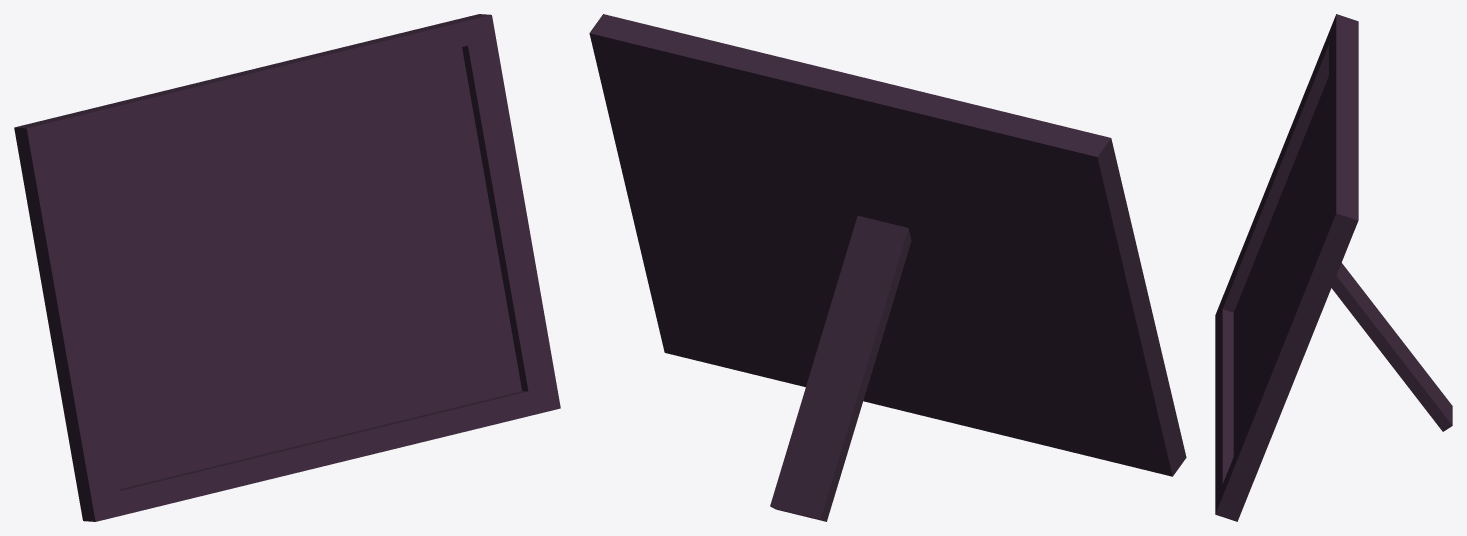
Rendered from PictureFrame_A01.fbx.
3 renders of one model, left to right at view 1: azimuth 30°, elevation 25°; view 2: azimuth 150°, elevation 25°; view 3: azimuth 270°, elevation 25°, orthographic. The views are drawn at different scales.
Visible parts, largest first — view 1: Picture Frame 001; view 2: Picture Frame 001; view 3: Picture Frame 001.
Boxes of the visible parts, x1,y1,x2,y2 form: Picture Frame 001: (14, 14, 560, 521); Picture Frame 001: (589, 14, 1186, 521); Picture Frame 001: (1215, 14, 1452, 521).
Size of the model in its own units: 20 by 14.62 by 10.06.
